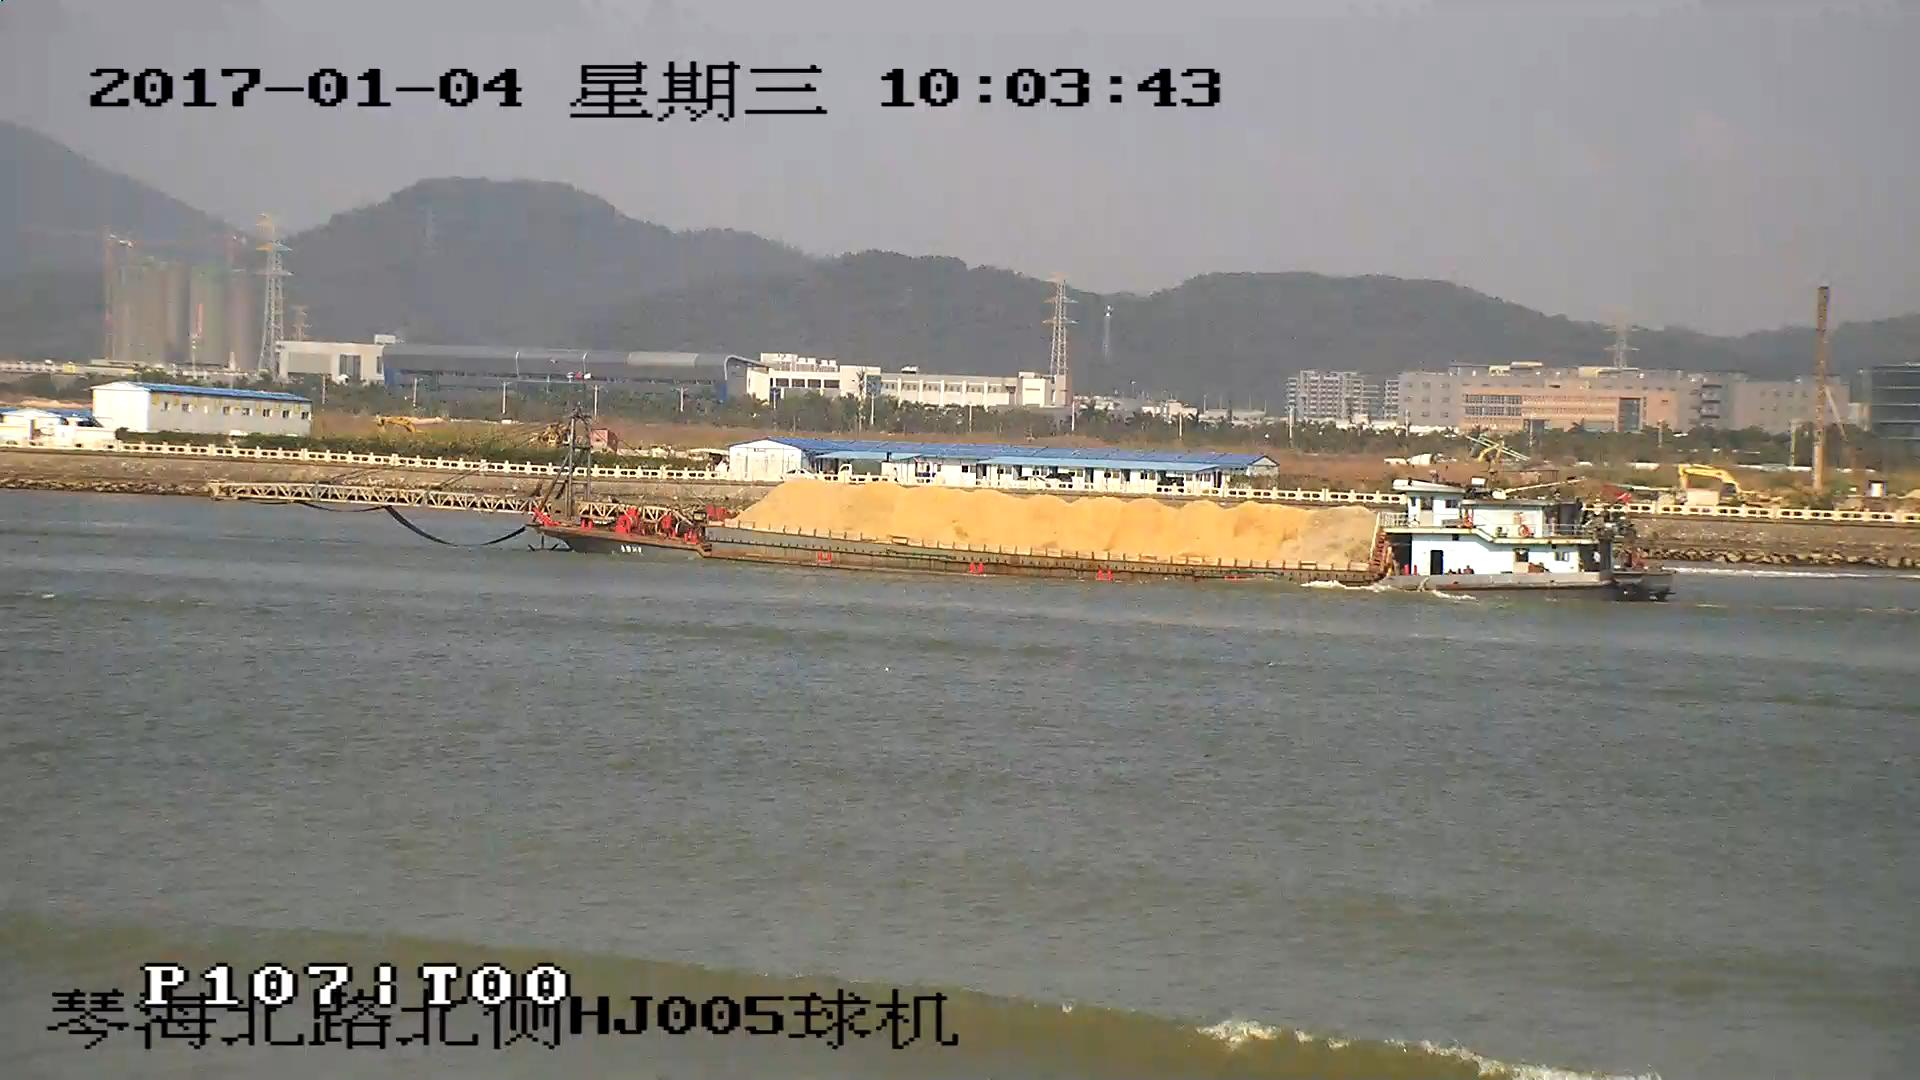ore carrier: (214, 406, 1674, 601)
